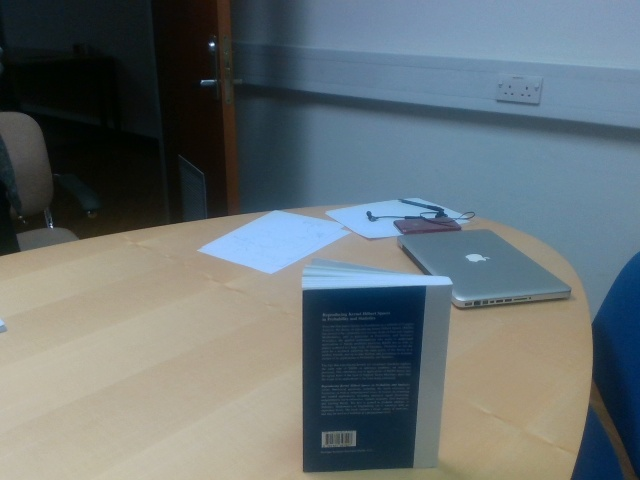book: (301, 257, 453, 470)
